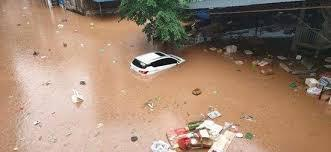water: (0, 0, 168, 151), (147, 37, 330, 151)
